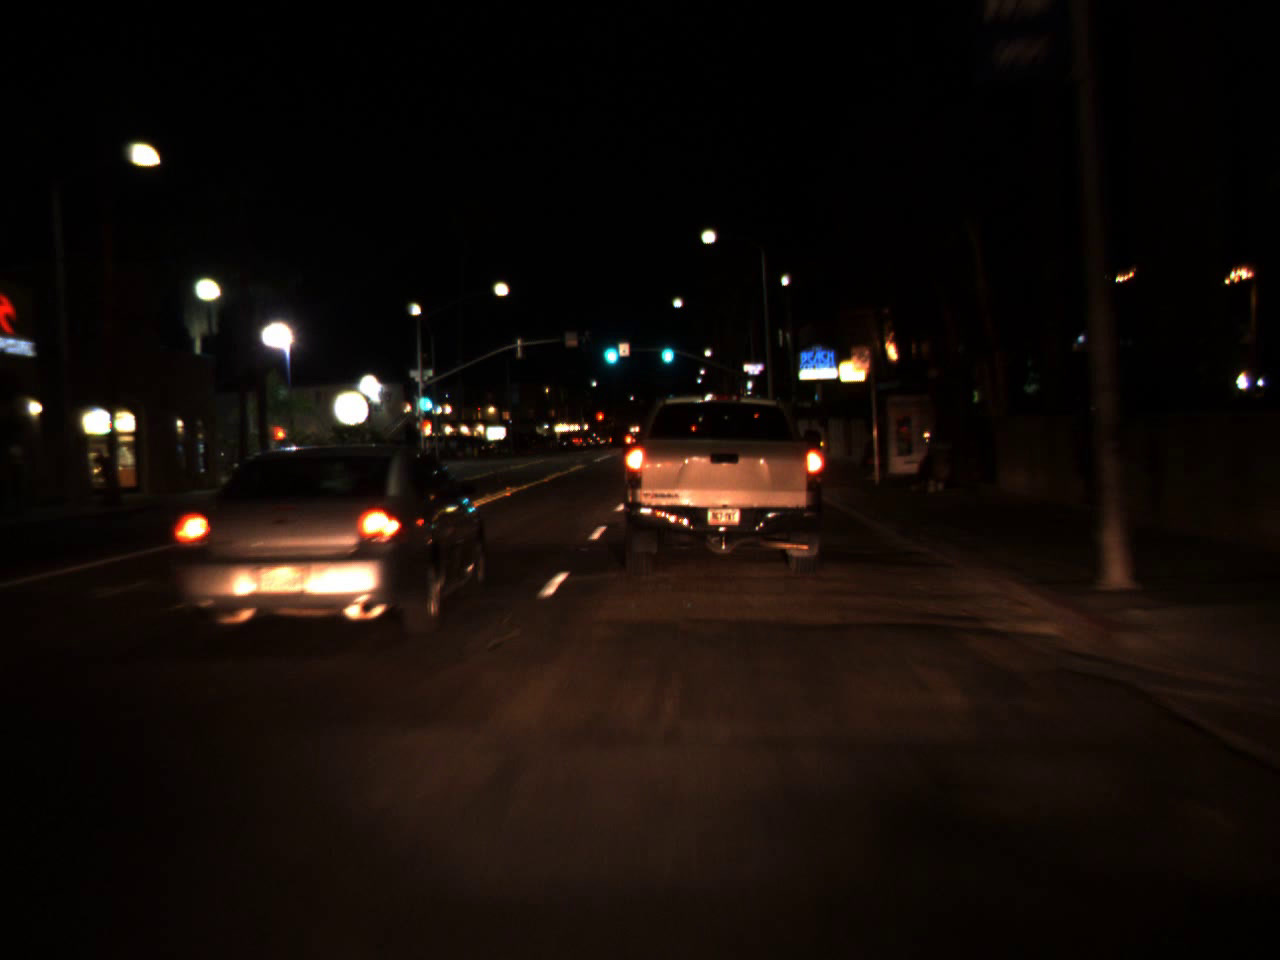go: (598, 328, 621, 370), (414, 380, 435, 416), (656, 332, 675, 368)
